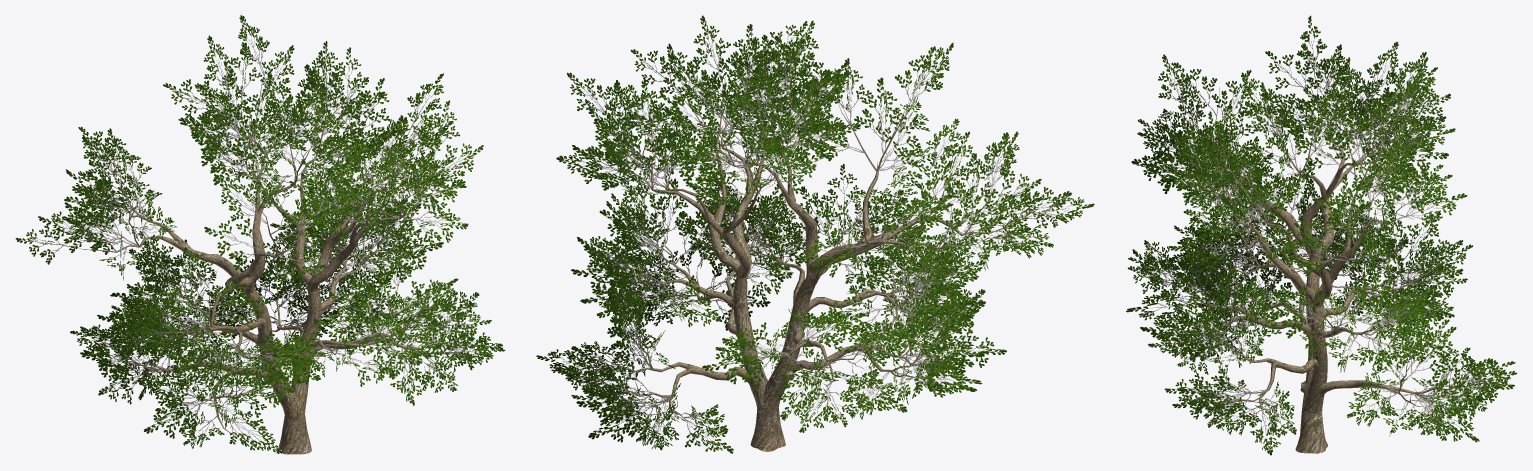
The model's file is tree_oak_b.glb.
The picture shows the model from 3 angles, left to right: view 1: azimuth 30°, elevation 25°; view 2: azimuth 150°, elevation 25°; view 3: azimuth 270°, elevation 25°; orthographic projection. The views are drawn at different scales.
Parts seen in each view (by area): view 1: oak leaf_1, mossybark02_0; view 2: oak leaf_1, mossybark02_0; view 3: oak leaf_1, mossybark02_0.
Part boxes in pixels (left/top/right/bottom): oak leaf_1: left=15, top=15, right=505, bottom=453; mossybark02_0: left=78, top=70, right=446, bottom=454; oak leaf_1: left=536, top=15, right=1094, bottom=453; mossybark02_0: left=605, top=79, right=1030, bottom=451; oak leaf_1: left=1126, top=15, right=1516, bottom=455; mossybark02_0: left=1177, top=81, right=1467, bottom=453.
Bounding box in the file's own units: 9.54 × 8 × 7.42.
Materials: 2 (2 with a texture image).
